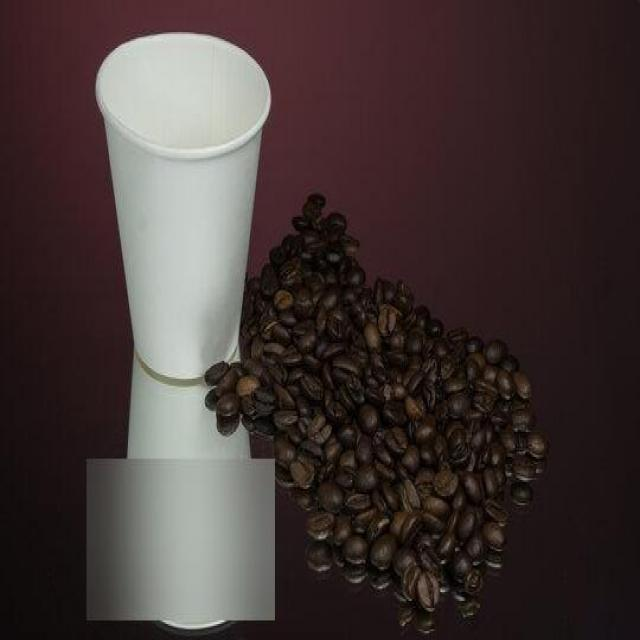cup-disposable: (94, 25, 274, 384)
